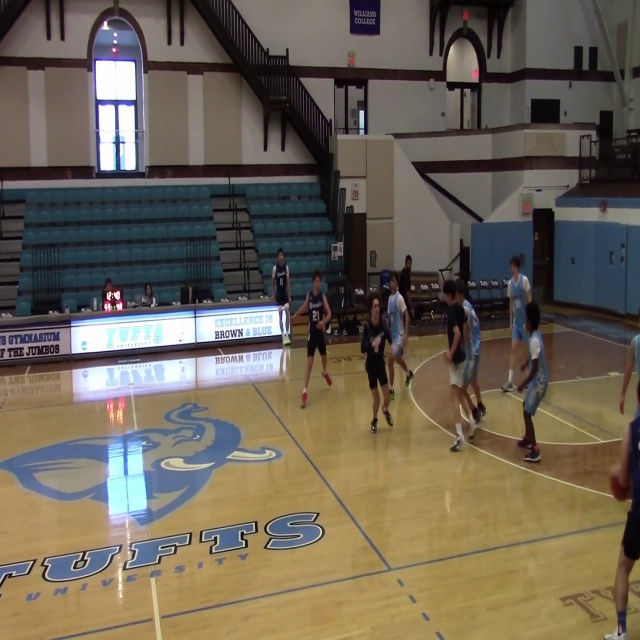Basketball: (609, 464, 631, 502)
